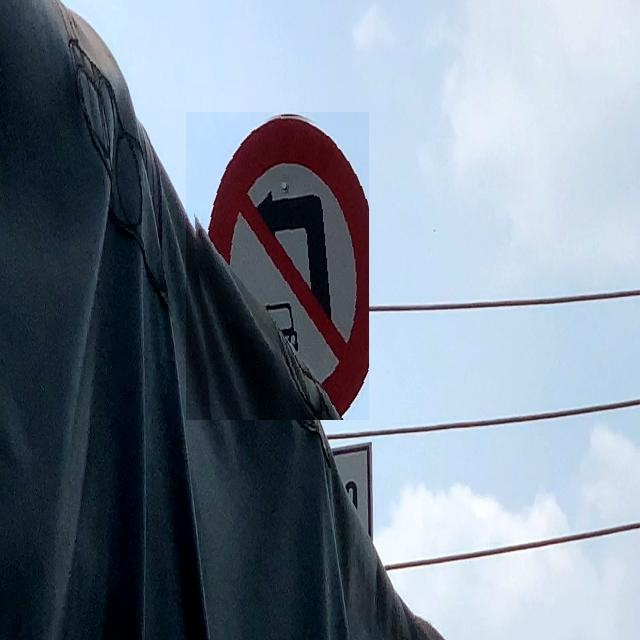bien_cam: (186, 112, 369, 420)
